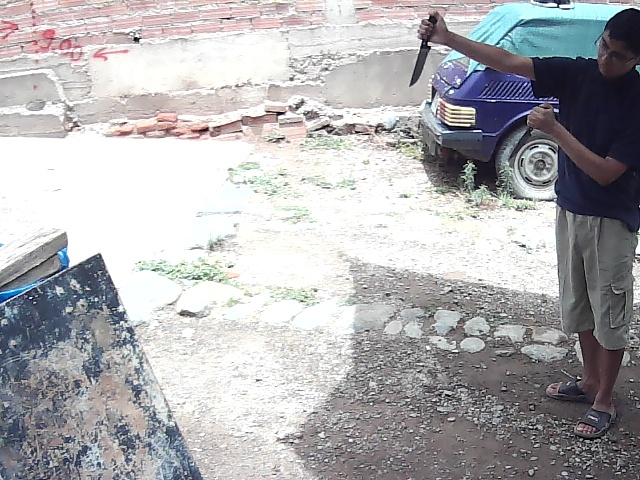cuchillo: (504, 121, 542, 165), (407, 34, 436, 91)
